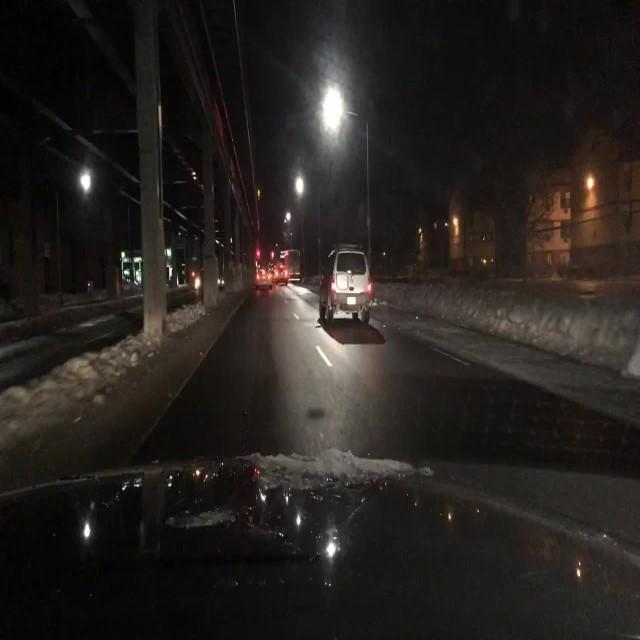normal: (290, 232, 401, 359)
